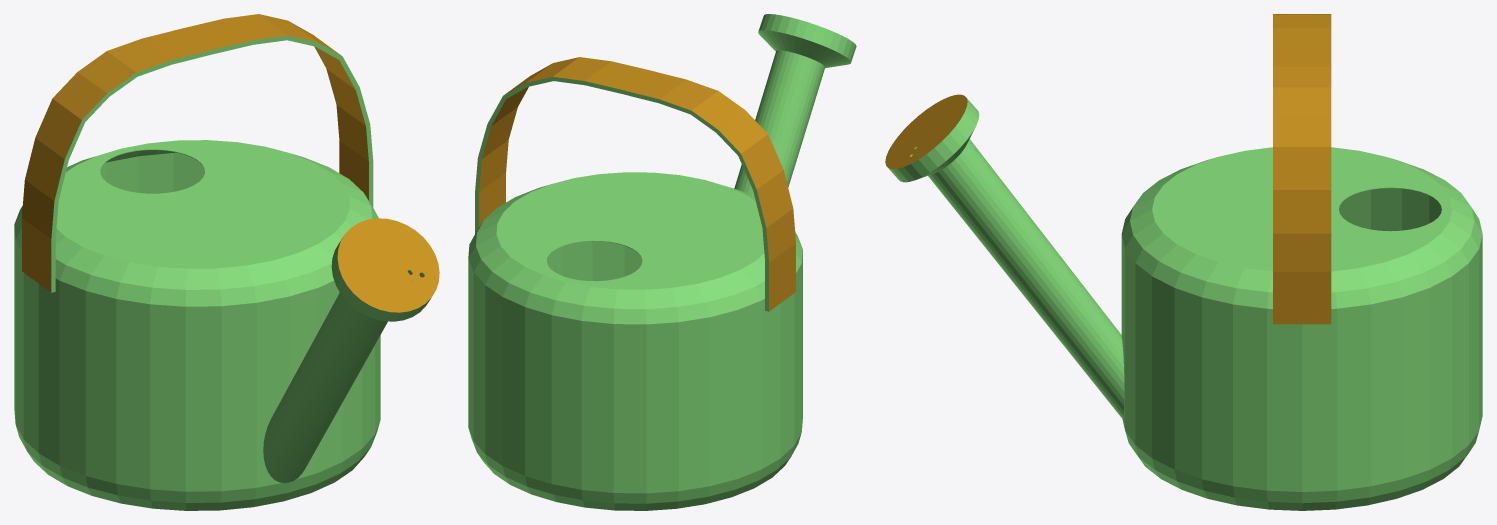
Rendered from Watering Can.fbx.
3 renders of one model, left to right at view 1: azimuth 30°, elevation 25°; view 2: azimuth 150°, elevation 25°; view 3: azimuth 270°, elevation 25°, orthographic. The views are drawn at different scales.
Visible parts, largest first — view 1: Water Can; view 2: Water Can; view 3: Water Can.
Boxes of the visible parts, x1=… form: Water Can: x1=14, y1=14, x2=439, y2=510; Water Can: x1=468, y1=14, x2=856, y2=510; Water Can: x1=885, y1=14, x2=1482, y2=510.
Bounding box in the file's own units: 43.41 × 51.42 × 70.95.
